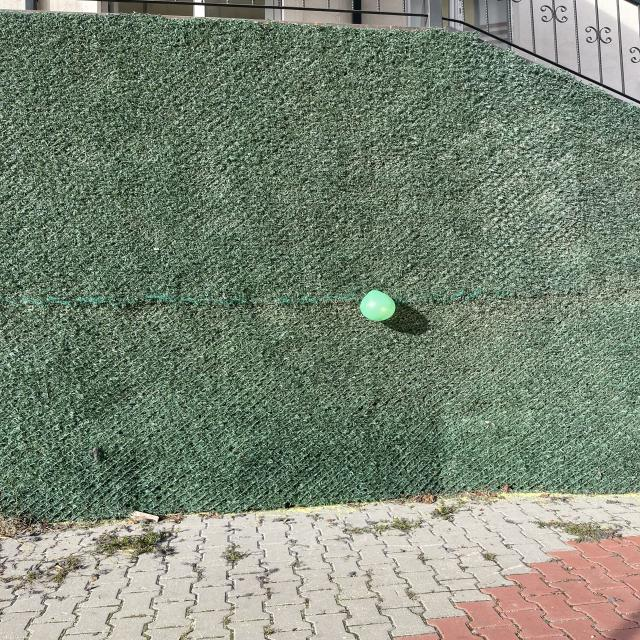balloon: (360, 290, 395, 321)
